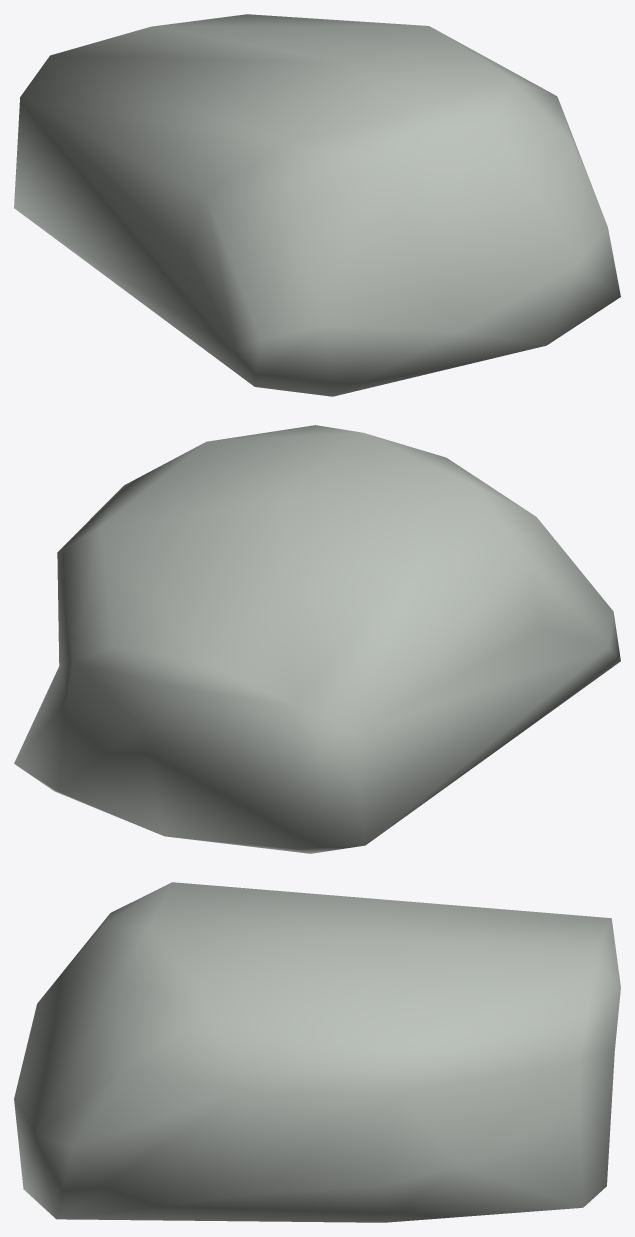
The model's file is piedra grande.fbx.
The picture shows the model from 3 angles, top to bottom: view 1: azimuth 30°, elevation 25°; view 2: azimuth 150°, elevation 25°; view 3: azimuth 270°, elevation 25°; orthographic projection. The views are drawn at different scales.
Parts seen in each view (by area): view 1: Cube; view 2: Cube; view 3: Cube.
Boxes of the visible parts, x1=… form: Cube: x1=14, y1=14, x2=620, y2=396; Cube: x1=14, y1=425, x2=620, y2=853; Cube: x1=14, y1=882, x2=620, y2=1222.
Bounding box in the file's own units: 283 × 153 × 354.
